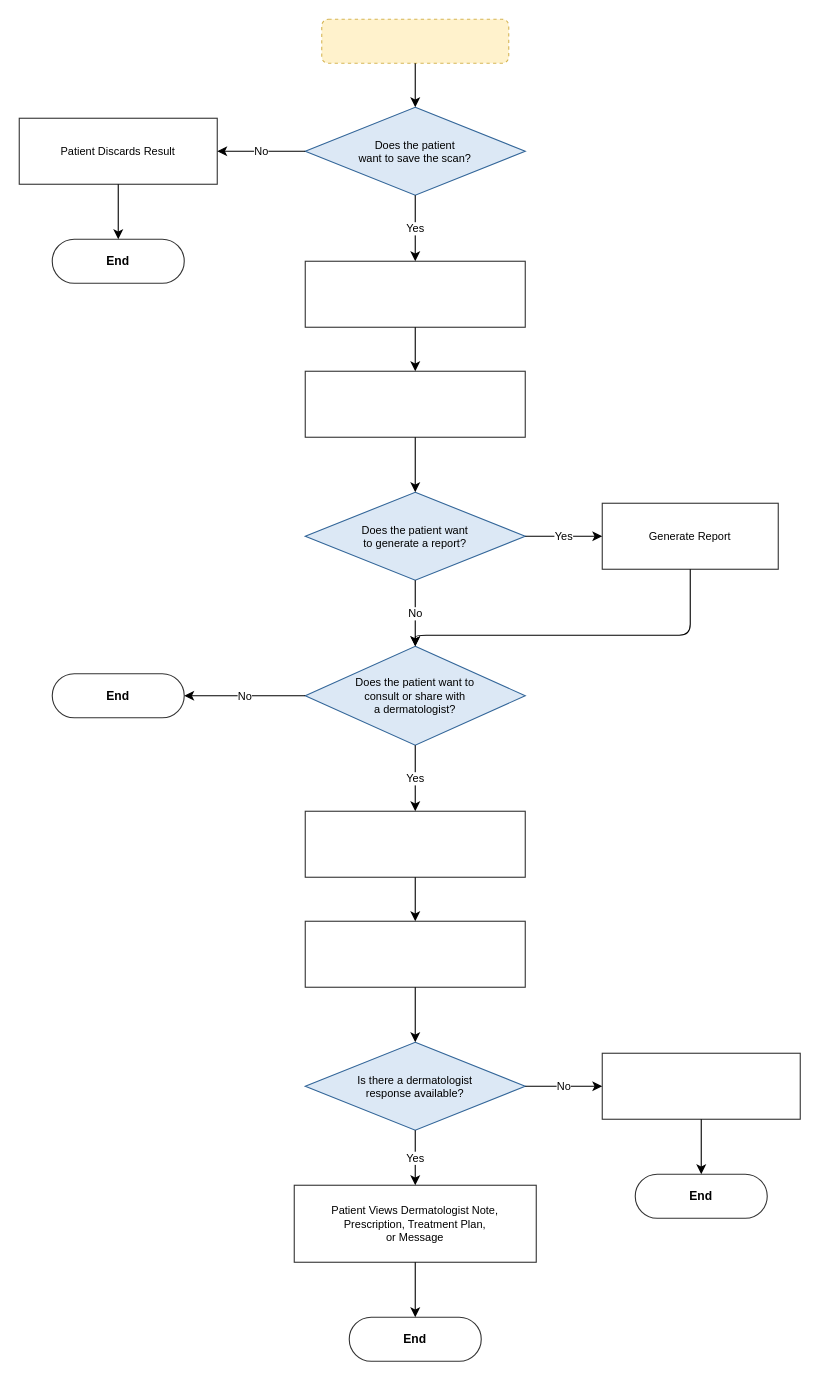
Some shapes in this 820 by 1381 pixel diagram are drawn without their labels. The shapes that lost their labels are listed below. From the top down, each one's centre as x and y in pixels, then its label:
the point at 415,40: Continued from Figure 3.X.a
the point at 414,293: Save Scan Record
the point at 414,403: Patient Views Scan History
the point at 414,843: Share Scan or Report with Dermatologist
the point at 414,953: Patient Sends Message to Dermatologist (Optional)
the point at 700,1085: Show Pending or No Response Status
